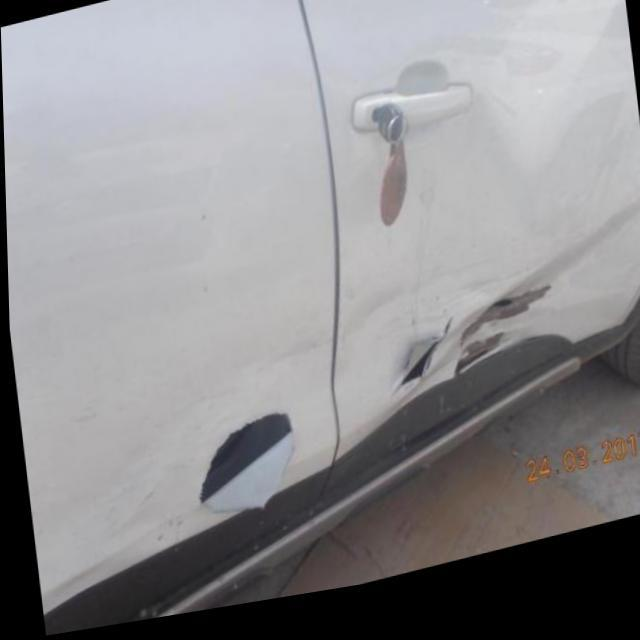crack: (382, 290, 548, 411), (191, 410, 302, 526)
dent: (121, 265, 504, 521)
